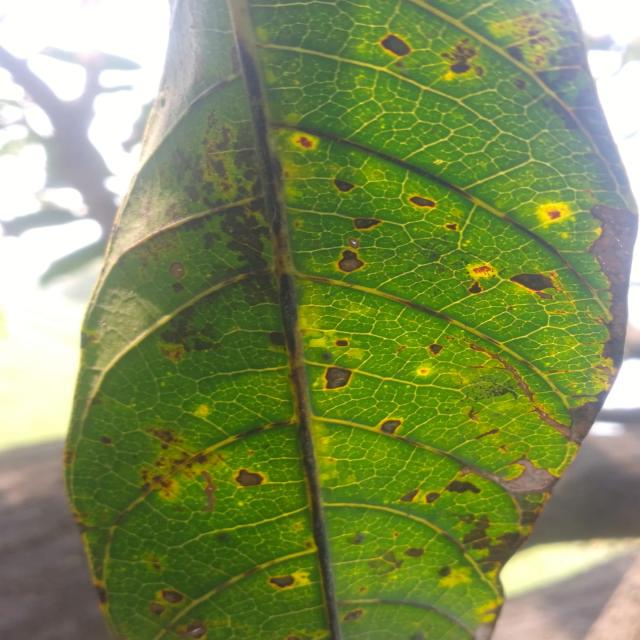Anthracnose: (367, 29, 507, 100), (148, 425, 225, 488), (309, 355, 363, 404), (150, 602, 164, 615)
Bacterial Cancer: (500, 443, 562, 528)
